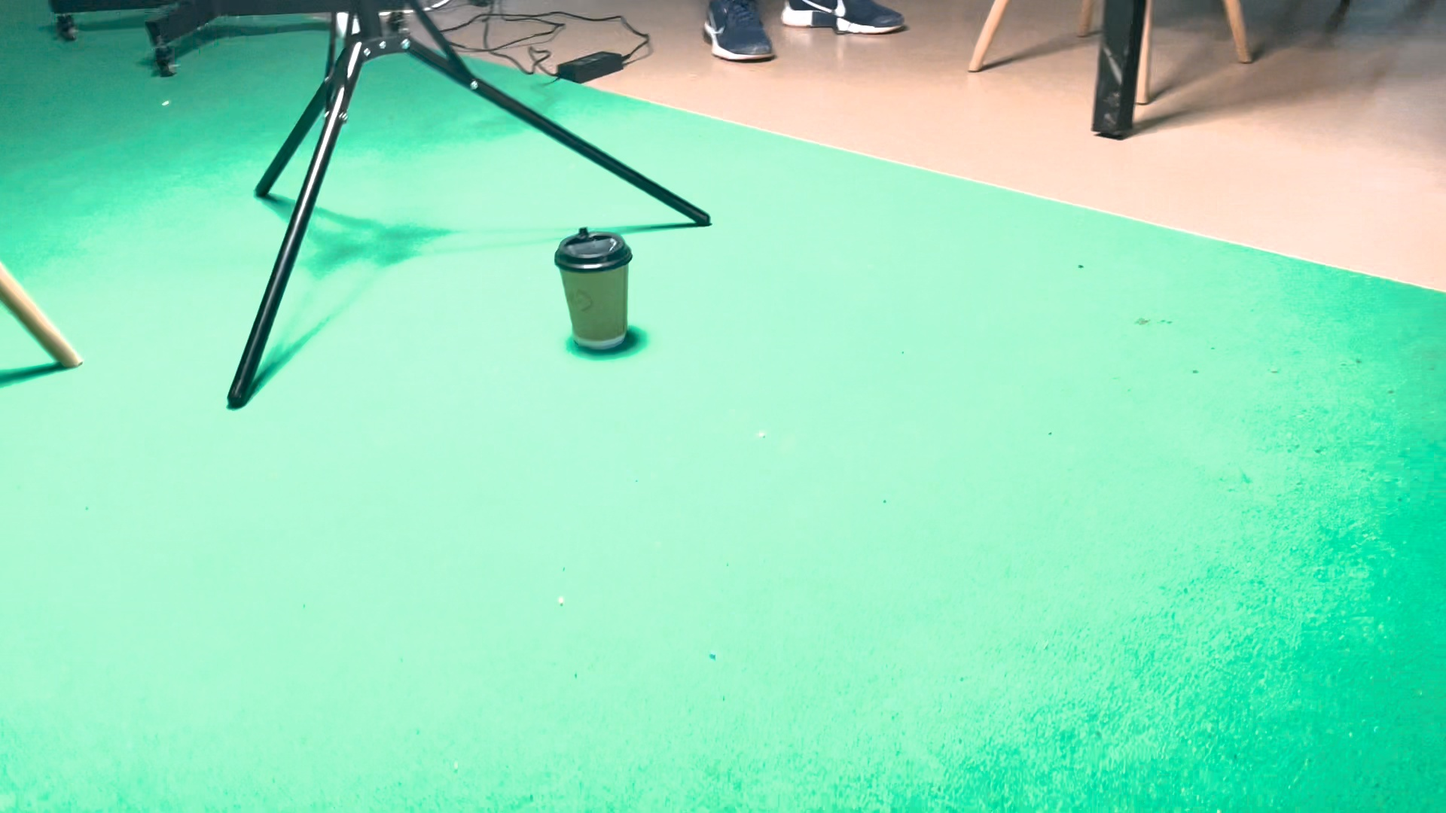cup: (686, 435, 799, 596)
